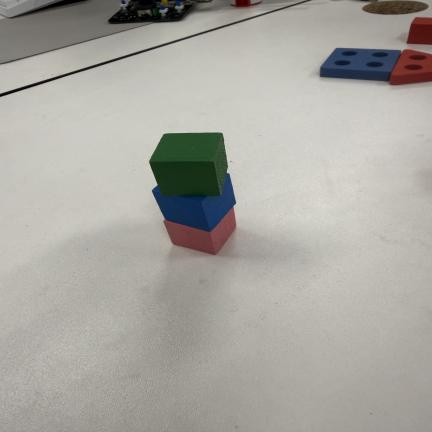BuildingBlocks: (150, 133, 235, 254), (150, 133, 227, 196), (153, 174, 235, 231), (164, 208, 235, 254), (320, 48, 400, 80), (390, 50, 431, 84), (408, 17, 431, 44)
